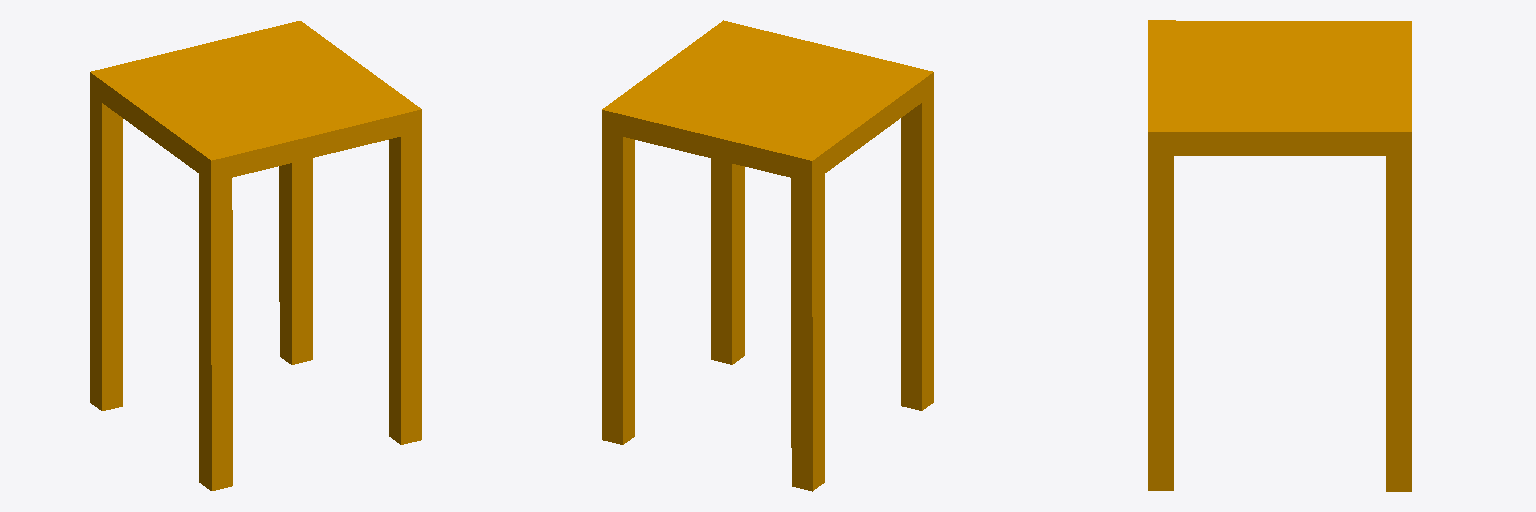
The robot description file, URDF, robot "table":
<?xml version="1.0"?>
<robot name="table">
  <material name="black">
    	<color rgba="0.5 0.5 0.5 1"/>
  </material>
	  
  <link name="base_link">
    <visual>
      <origin
        xyz="0 0 0"
        rpy="1.57 0 0" />
      <geometry>
        <mesh
          filename="Table.STL" />
      </geometry>

    </visual>
    <collision>
	<origin
        xyz="0 0 0"
        rpy="1.57 0 0" />
	<geometry>
            <mesh
          filename="Table.STL" />
      </geometry>
    </collision>
  </link>
</robot>

--- Render facts (derived) ---
The picture shows the robot from 3 angles, left to right: view 1: azimuth 30°, elevation 25°; view 2: azimuth 150°, elevation 25°; view 3: azimuth 270°, elevation 25°; orthographic projection.
Model table with 1 links and 0 joints (none), rooted at base_link, posed every joint at zero.
Visible links, largest first — view 1: base_link; view 2: base_link; view 3: base_link.
Boxes of the visible links, x1,y1,x2,y2 form: base_link: [90, 21, 421, 490]; base_link: [602, 20, 933, 491]; base_link: [1148, 20, 1411, 491].
Bounding box of the posed robot: 0.3 × 0.3004 × 0.4502 m (x, y, z).
Meshes: 1 distinct files referenced, 1 mesh visuals loaded (1 binary STL).